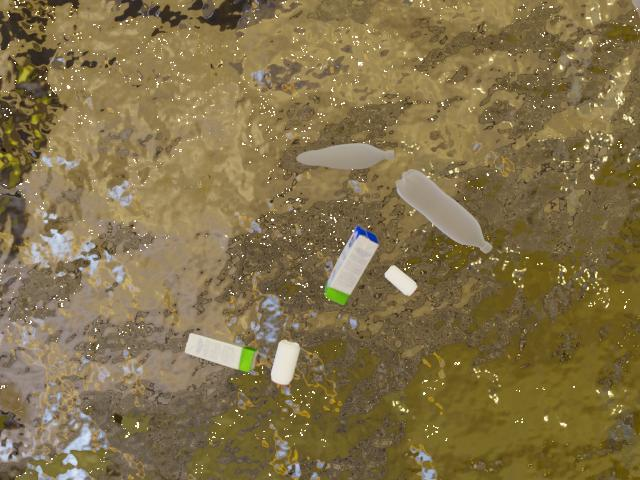Metal: (265, 325, 309, 404), (381, 260, 420, 303)
Plastic: (291, 138, 396, 172)
Trash: (313, 217, 381, 313), (171, 328, 260, 378)
